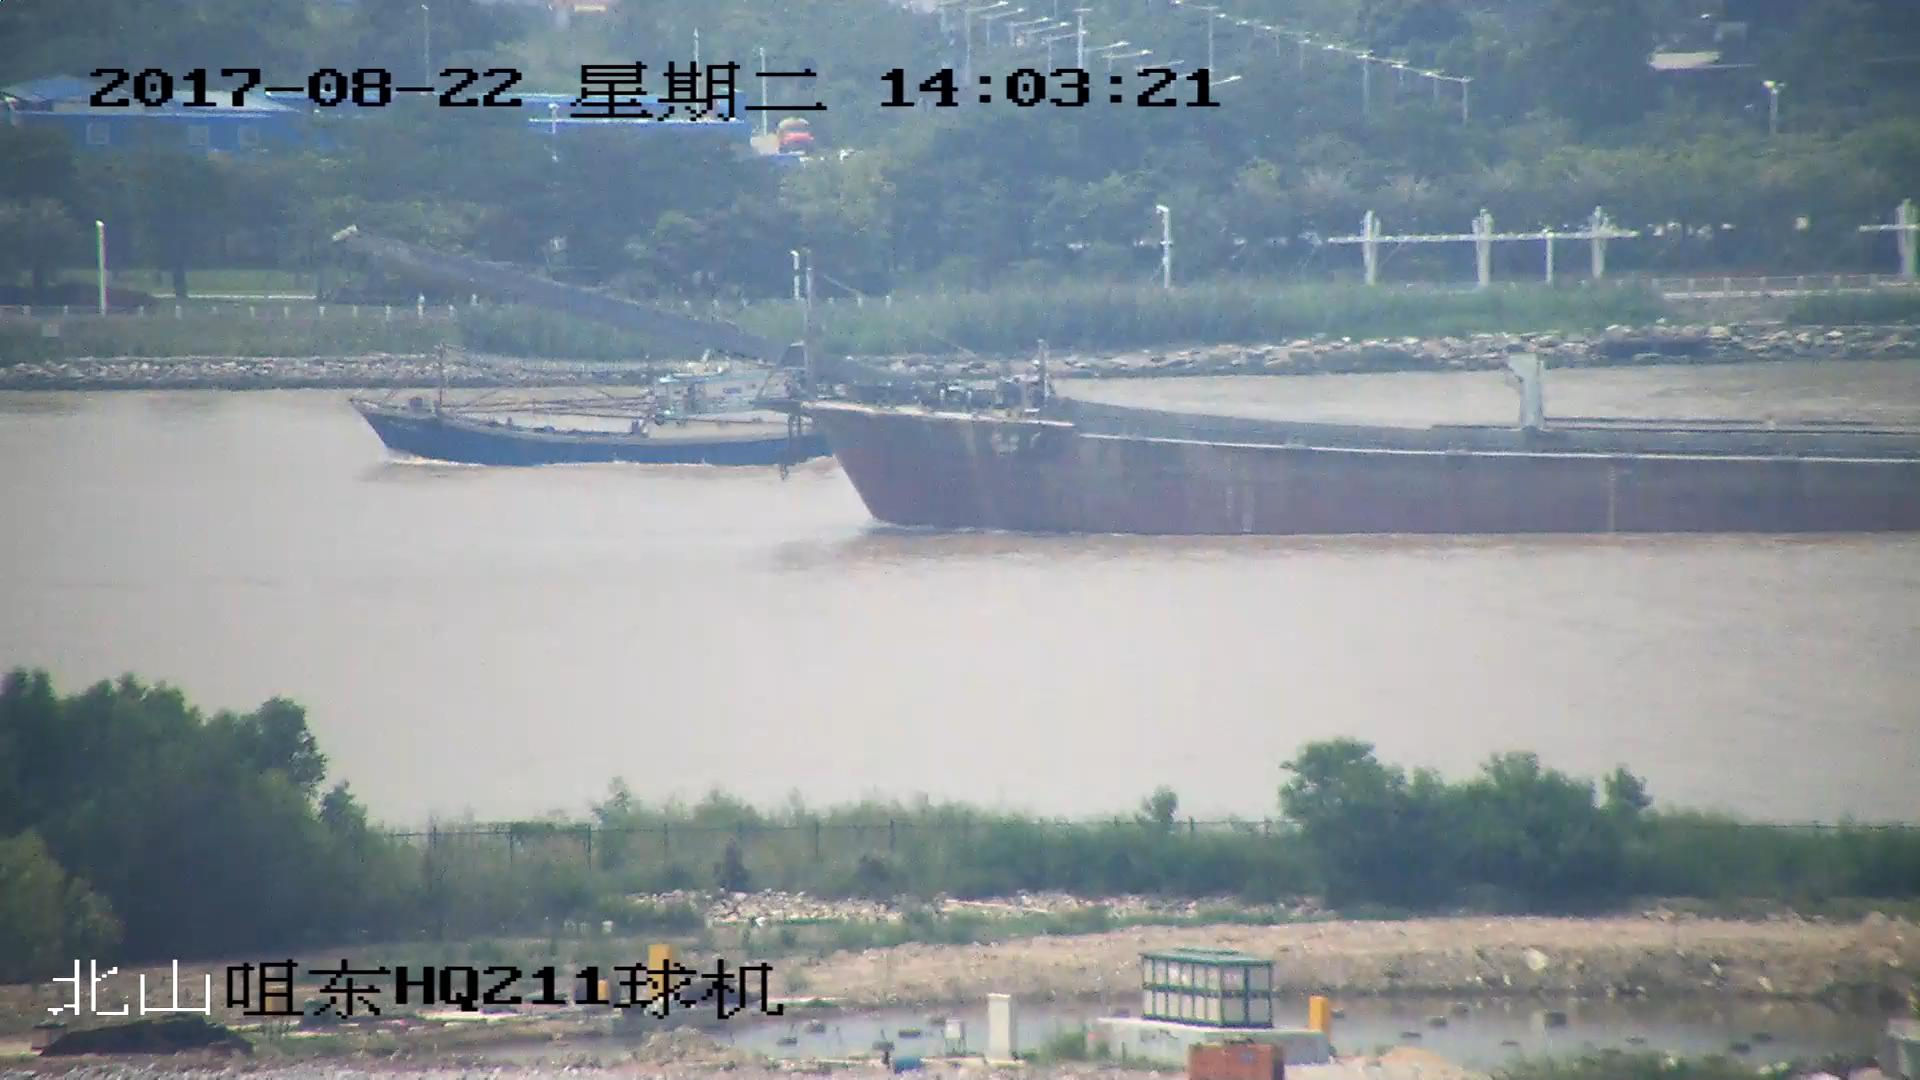bulk cargo carrier: (338, 235, 1920, 539)
fishing boat: (350, 350, 819, 467)
